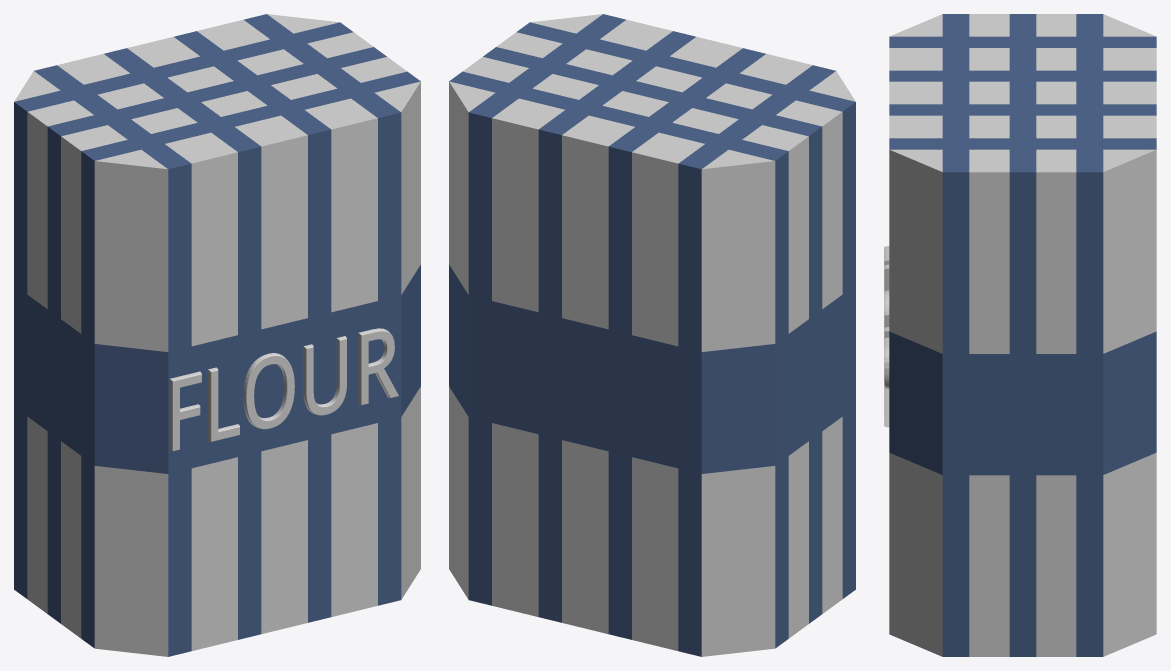
The model's file is flour.glb.
The picture shows the model from 3 angles, left to right: view 1: azimuth 30°, elevation 25°; view 2: azimuth 150°, elevation 25°; view 3: azimuth 270°, elevation 25°; orthographic projection.
Parts seen in each view (by area): view 1: Mesh_Mesh_head_geo.001_lambert2SG.001; view 2: Mesh_Mesh_head_geo.001_lambert2SG.001; view 3: Mesh_Mesh_head_geo.001_lambert2SG.001.
Part boxes in pixels (box(x1,y1,x2,y2)): Mesh_Mesh_head_geo.001_lambert2SG.001: box(14, 14, 420, 656); Mesh_Mesh_head_geo.001_lambert2SG.001: box(449, 14, 855, 656); Mesh_Mesh_head_geo.001_lambert2SG.001: box(884, 14, 1156, 656).
Bounding box in the file's own units: 0.0182 × 0.026 × 0.0132.
